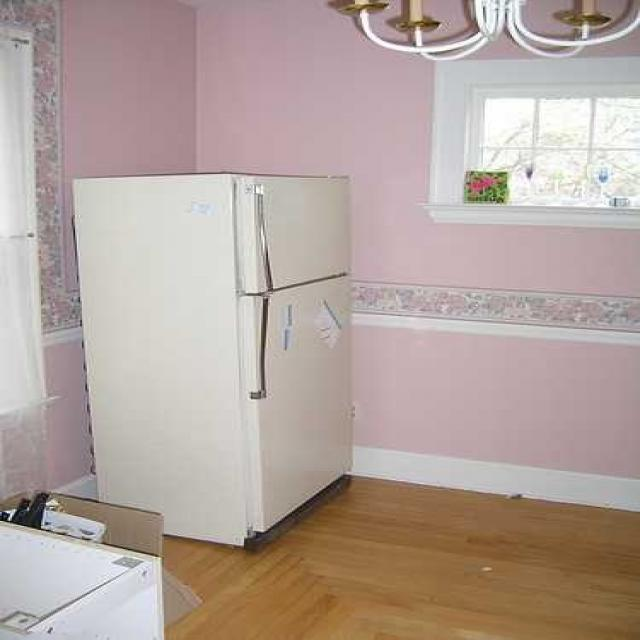refrigerator: (91, 173, 356, 572)
